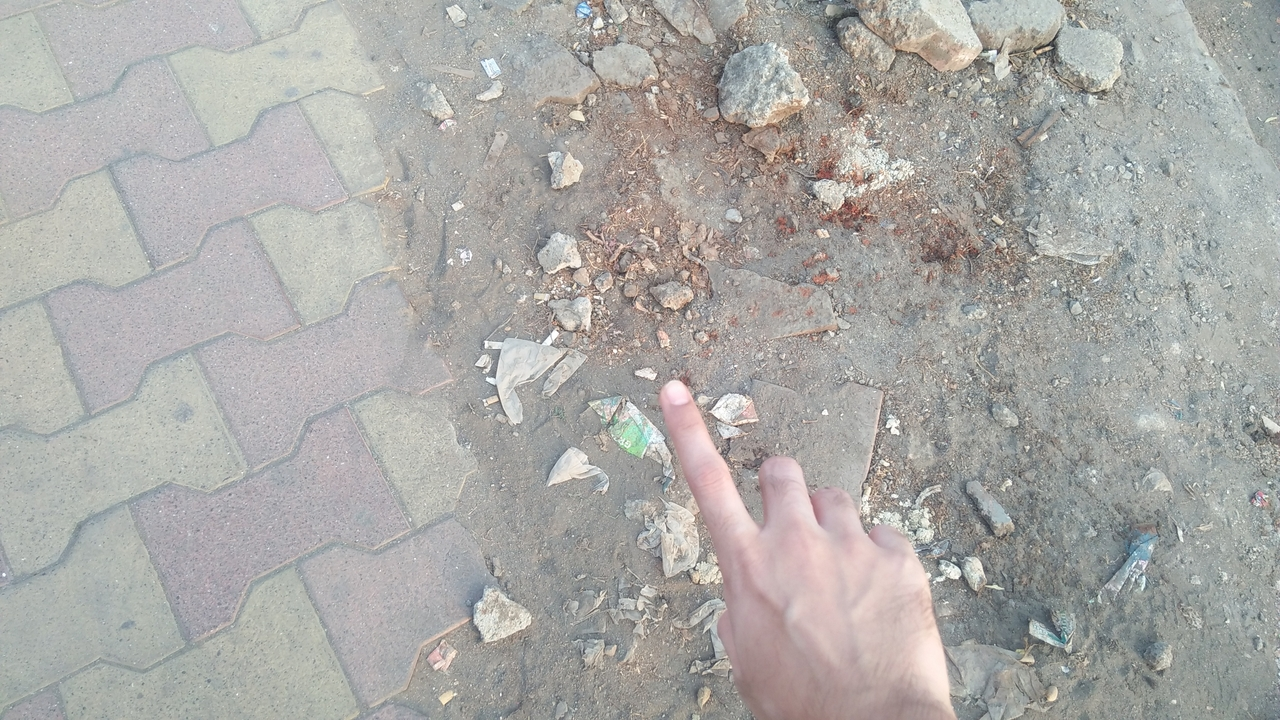fingertip: (652, 372, 704, 430)
